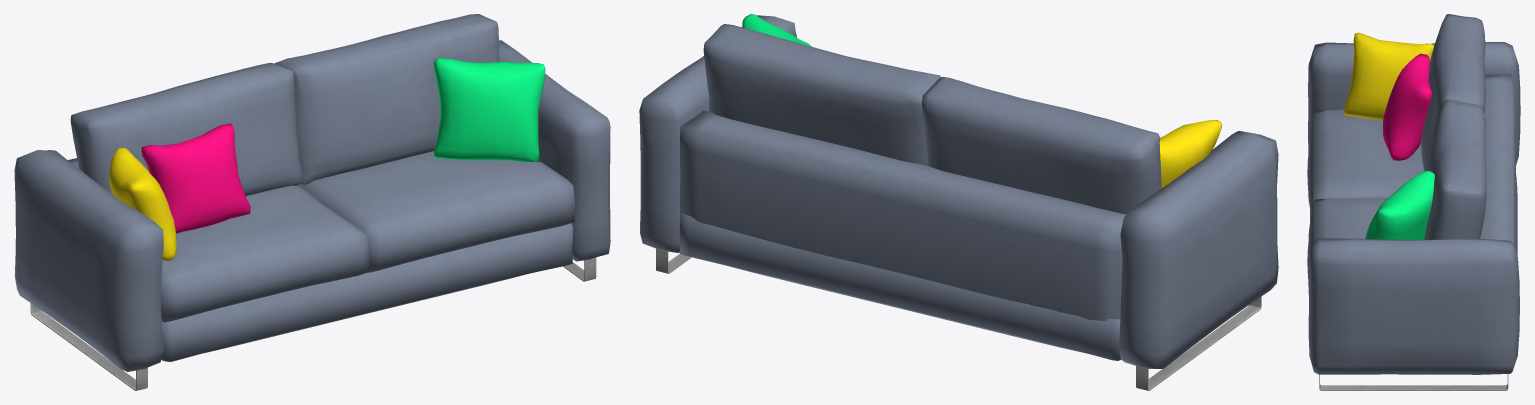
The model's file is sofa2.glb.
3 views of the same model, side by side, from view 1: azimuth 30°, elevation 25°; view 2: azimuth 150°, elevation 25°; view 3: azimuth 270°, elevation 25° (orthographic). The views are drawn at different scales.
Visible parts, largest first — view 1: v2_divan.004_low; view 2: v2_divan.004_low; view 3: v2_divan.004_low.
Part boxes in pixels (box(x1,y1,x2,y2)): v2_divan.004_low: box(14, 14, 610, 390); v2_divan.004_low: box(639, 14, 1278, 390); v2_divan.004_low: box(1307, 14, 1520, 390).
Size of the model in its own units: 0.0655 by 0.027 by 0.0272.
Materials: 1 (1 with a texture image).
